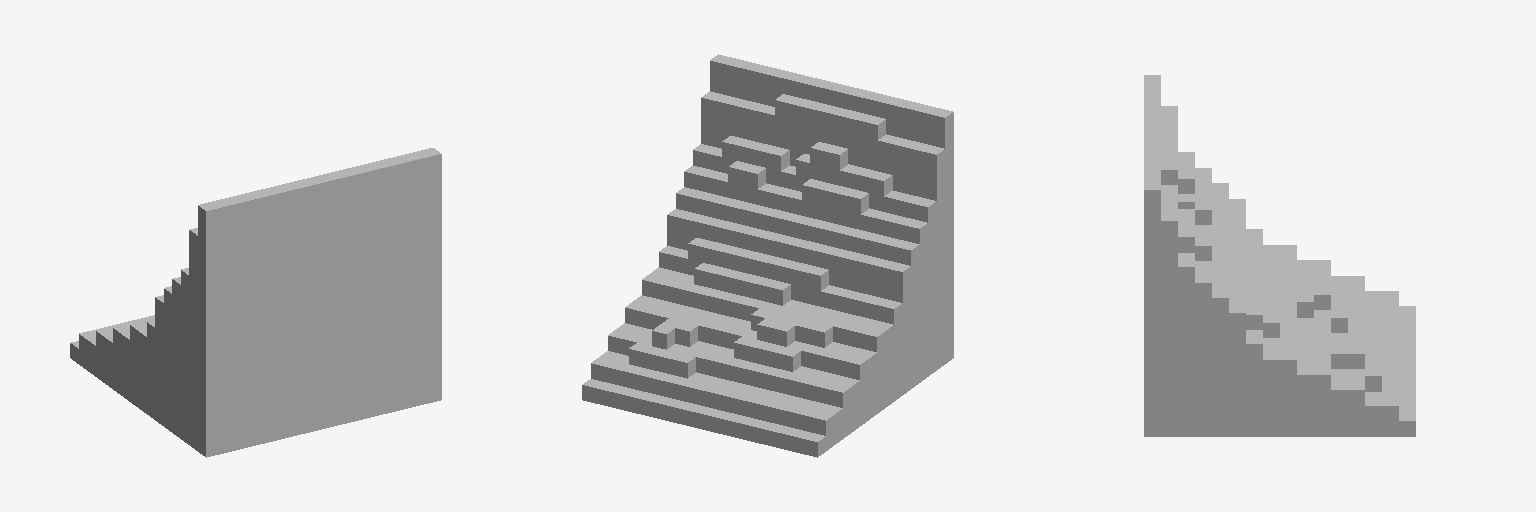
The model's file is civ_slope_3.obj.
The picture shows the model from 3 angles: view 1: azimuth 30°, elevation 25°; view 2: azimuth 150°, elevation 25°; view 3: azimuth 270°, elevation 25°; orthographic projection.
Visible parts, largest first — view 1: grassyslope.001; view 2: grassyslope.001; view 3: grassyslope.001.
Boxes of the visible parts, <box> form: grassyslope.001: <box>70,148,441,457</box>; grassyslope.001: <box>582,54,953,457</box>; grassyslope.001: <box>1144,75,1415,436</box>.
Size of the model in its own units: 1 by 1 by 1.